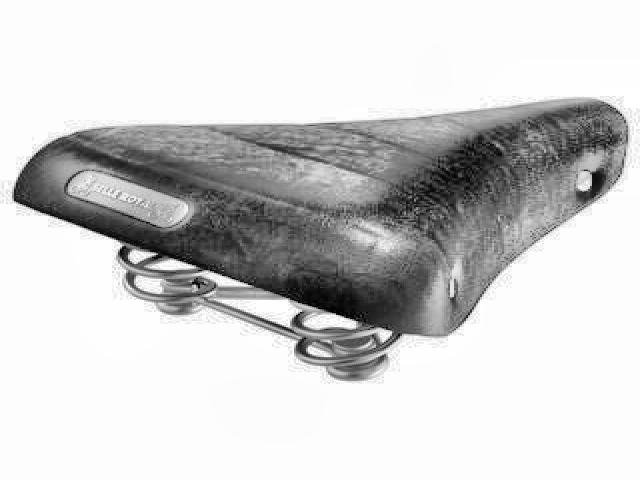saddle: (11, 94, 634, 384)
